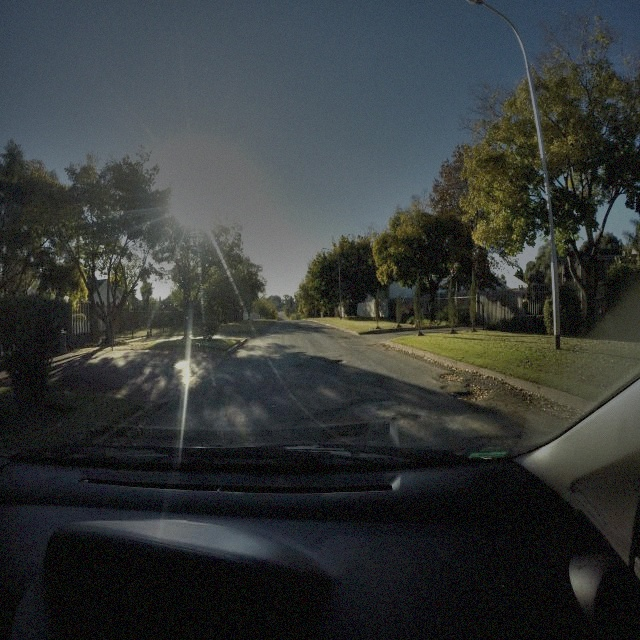pothole: (452, 382, 491, 407), (391, 411, 417, 424), (441, 371, 462, 381), (331, 356, 347, 366), (441, 383, 451, 394), (296, 350, 309, 356)
